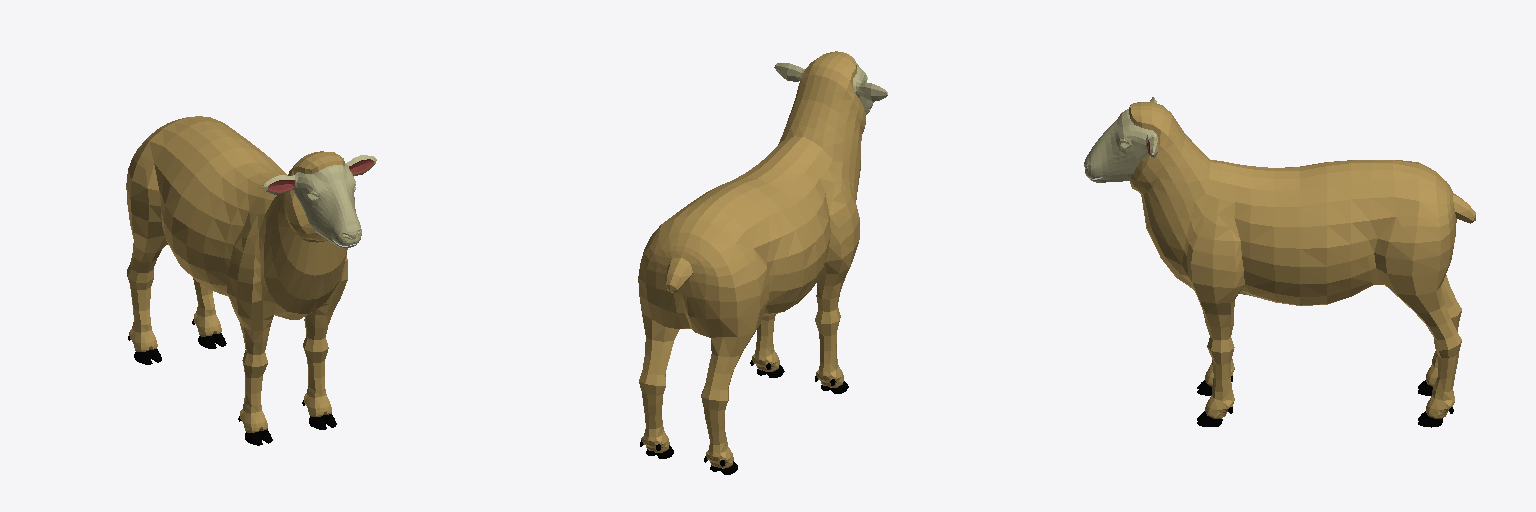
File: sheep_sheep_triangulated.obj
3 renders of one model, left to right at view 1: azimuth 30°, elevation 25°; view 2: azimuth 150°, elevation 25°; view 3: azimuth 270°, elevation 25°, orthographic.
Size of the model in its own units: 0.4925 by 1.17 by 1.38.